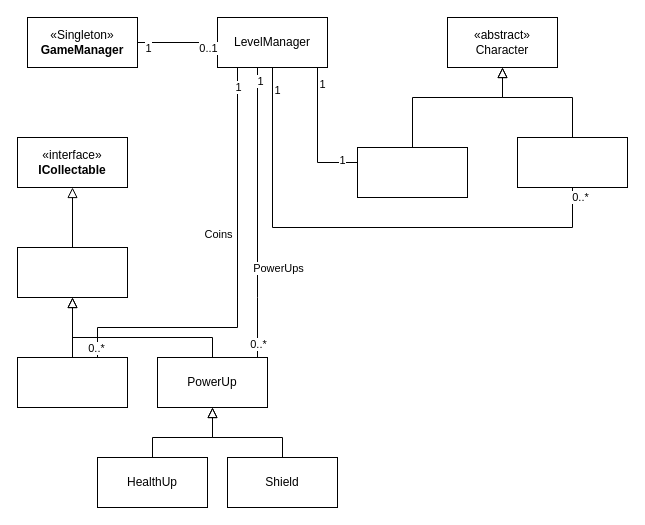
This 645x525 diagram has some shape labels left out. Here are the shapes that lost their labels. From the top down, the centre of each, then its label:
point 412,172: PlayerCharacter
point 572,162: EnemyCharacter
point 72,272: « abstract » Collectable
point 72,382: Coin
